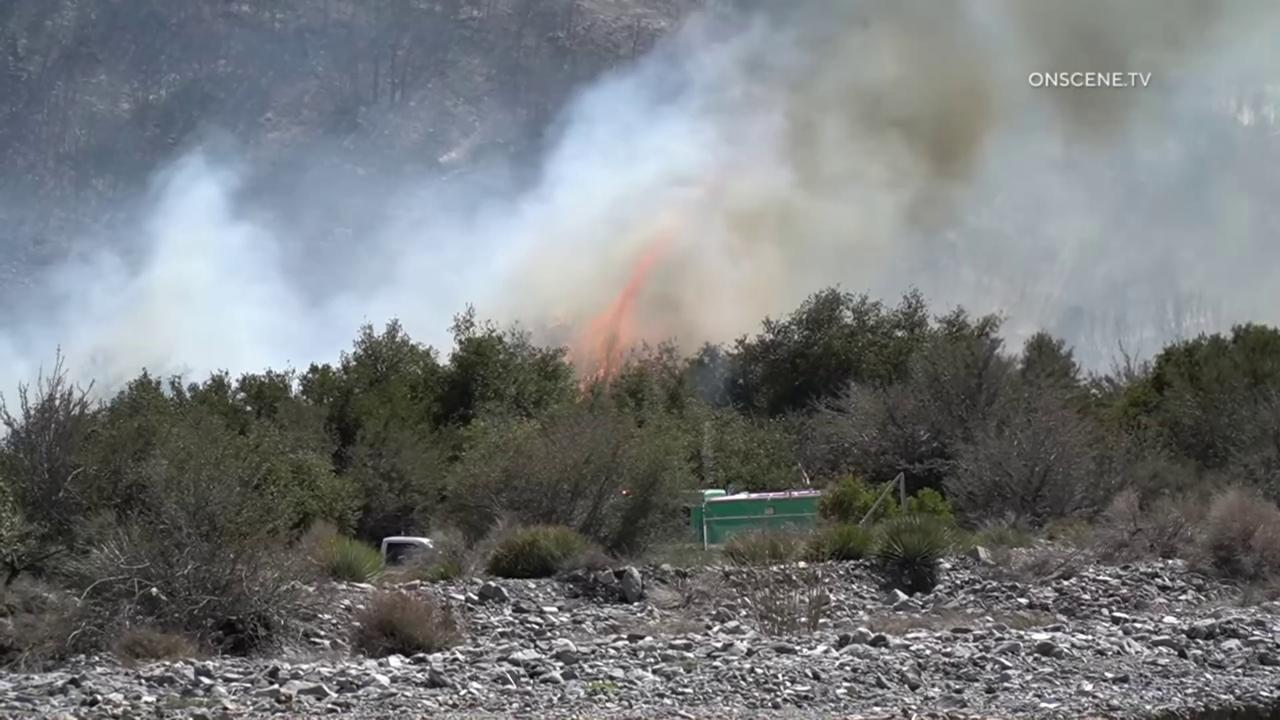fire: (561, 236, 672, 404), (621, 490, 627, 495)
smoke: (0, 0, 1280, 445)
